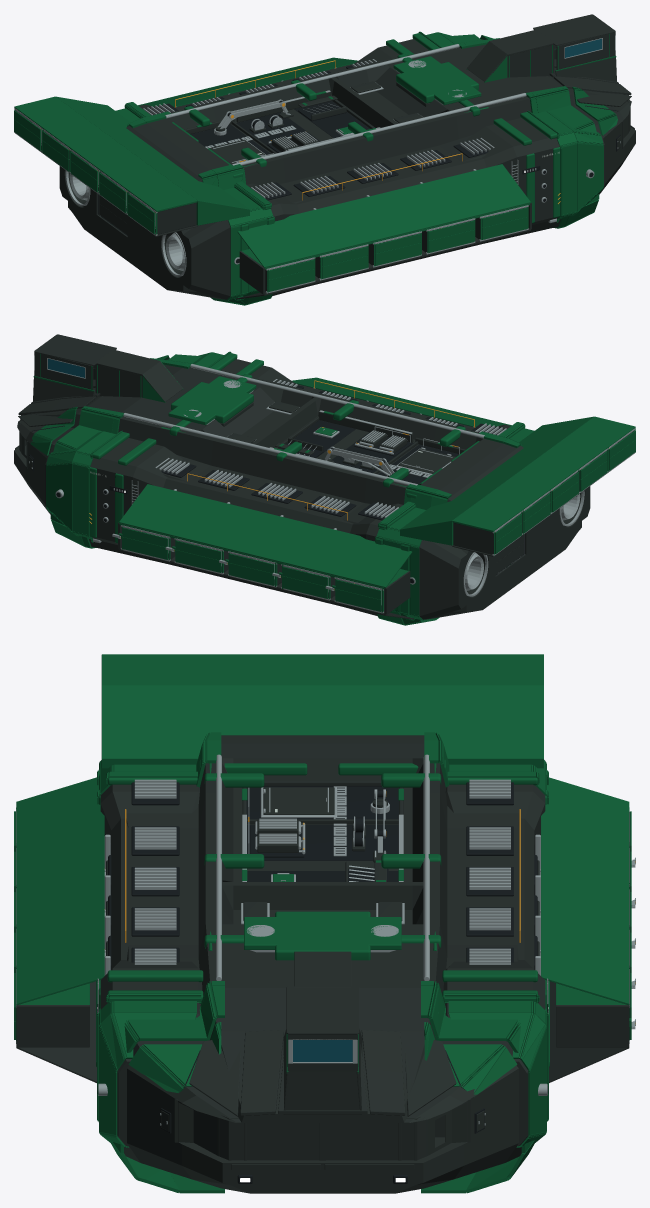
Rendered from pioneer.glb.
The picture shows the model from 3 angles, top to bottom: view 1: azimuth 30°, elevation 25°; view 2: azimuth 150°, elevation 25°; view 3: azimuth 270°, elevation 25°; orthographic projection. The views are drawn at different scales.
Visible parts, largest first — view 1: Pioneer saved-master body; view 2: Pioneer saved-master body; view 3: Pioneer saved-master body.
Boxes of the visible parts, x1,y1,x2,y2 form: Pioneer saved-master body: (14,14,635,305); Pioneer saved-master body: (14,334,635,625); Pioneer saved-master body: (14,654,635,1193).
Bounding box in the file's own units: 78.25 × 20.35 × 52.05.
